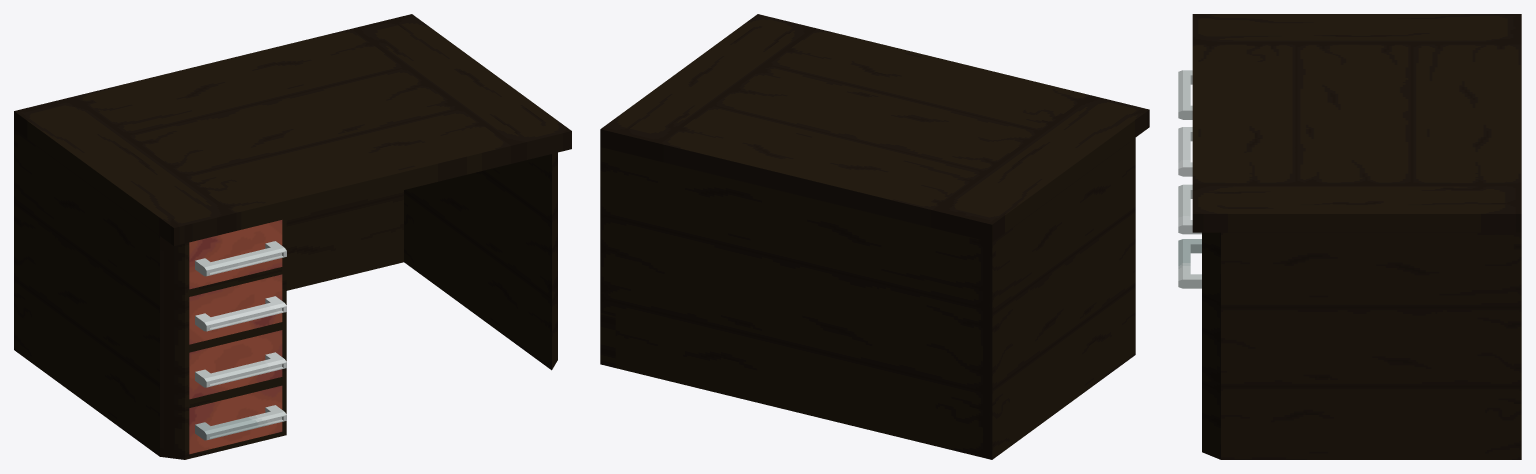
The model's file is Mesa Tumi.fbx.
The picture shows the model from 3 angles, left to right: view 1: azimuth 30°, elevation 25°; view 2: azimuth 150°, elevation 25°; view 3: azimuth 270°, elevation 25°; orthographic projection. The views are drawn at different scales.
Visible parts, largest first — view 1: Cube.004, Cube.002, Cube.001, Cube.003; view 2: Cube.004, Cube.002; view 3: Cube.004, Cube.002, Cube.003.
Part boxes in pixels (x1,y1,x2,y2): Cube.004: (14, 129, 557, 459); Cube.002: (14, 14, 571, 245); Cube.001: (189, 220, 282, 454); Cube.003: (195, 241, 286, 440); Cube.004: (600, 138, 1135, 459); Cube.002: (600, 14, 1149, 242); Cube.004: (1202, 232, 1521, 459); Cube.002: (1192, 14, 1521, 232); Cube.003: (1178, 70, 1201, 288).
Bounding box in the file's own units: 1425 × 818 × 1035.
3 materials, 3 textured.
